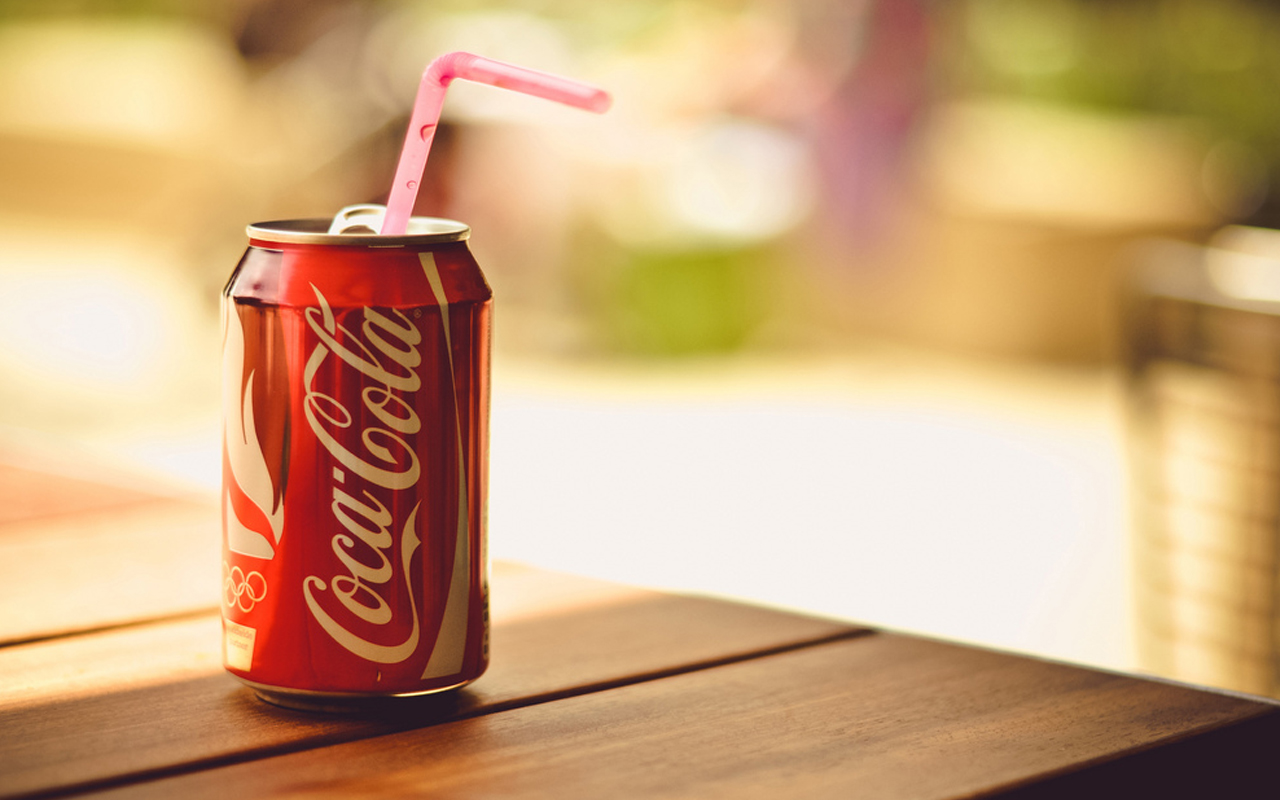coke: (232, 231, 497, 699)
